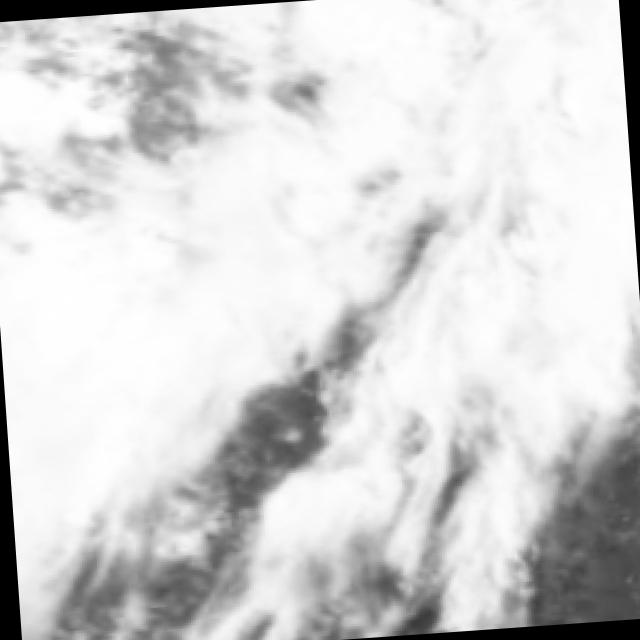CB: (496, 0, 639, 310), (0, 282, 218, 457), (0, 262, 111, 495)
